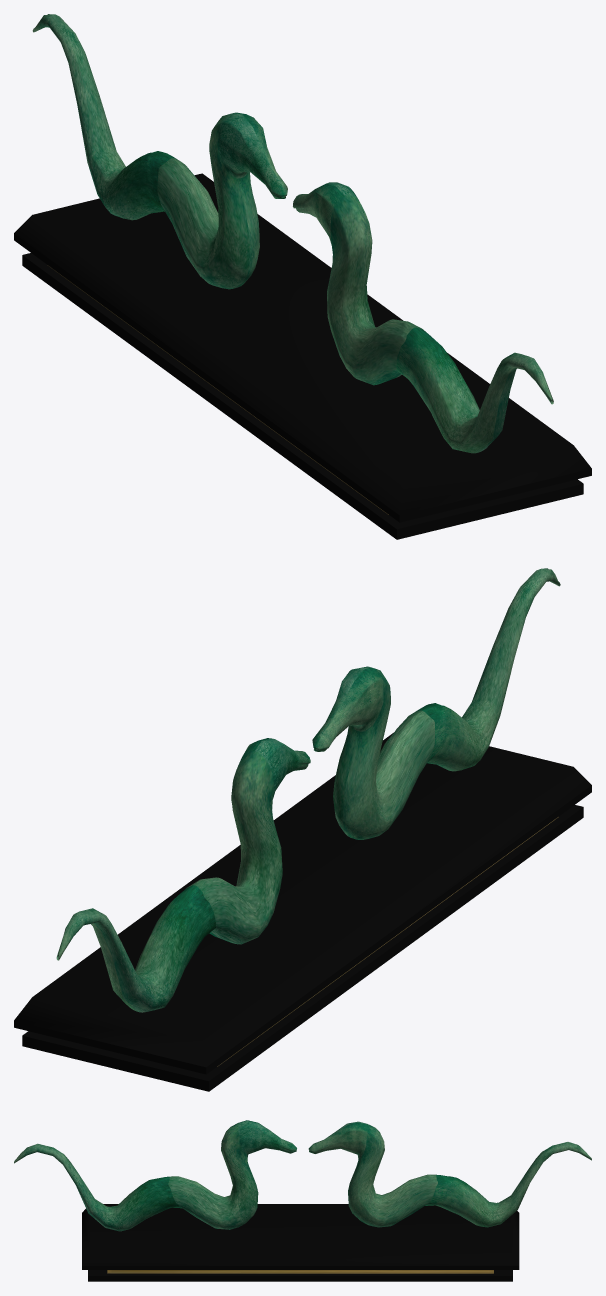
The model's file is Drakenstandbeeld Jade - Sabine.obj.
The picture shows the model from 3 angles, top to bottom: view 1: azimuth 30°, elevation 25°; view 2: azimuth 150°, elevation 25°; view 3: azimuth 270°, elevation 25°; orthographic projection. The views are drawn at different scales.
Parts seen in each view (by area): view 1: polySurface10; view 2: polySurface10; view 3: polySurface10.
Part boxes in pixels (x1,y1,x2,y2): polySurface10: (14,14,591,539); polySurface10: (14,568,591,1091); polySurface10: (14,1120,591,1281).
Bounding box in the file's own units: 4.72 × 5.44 × 21.66.
